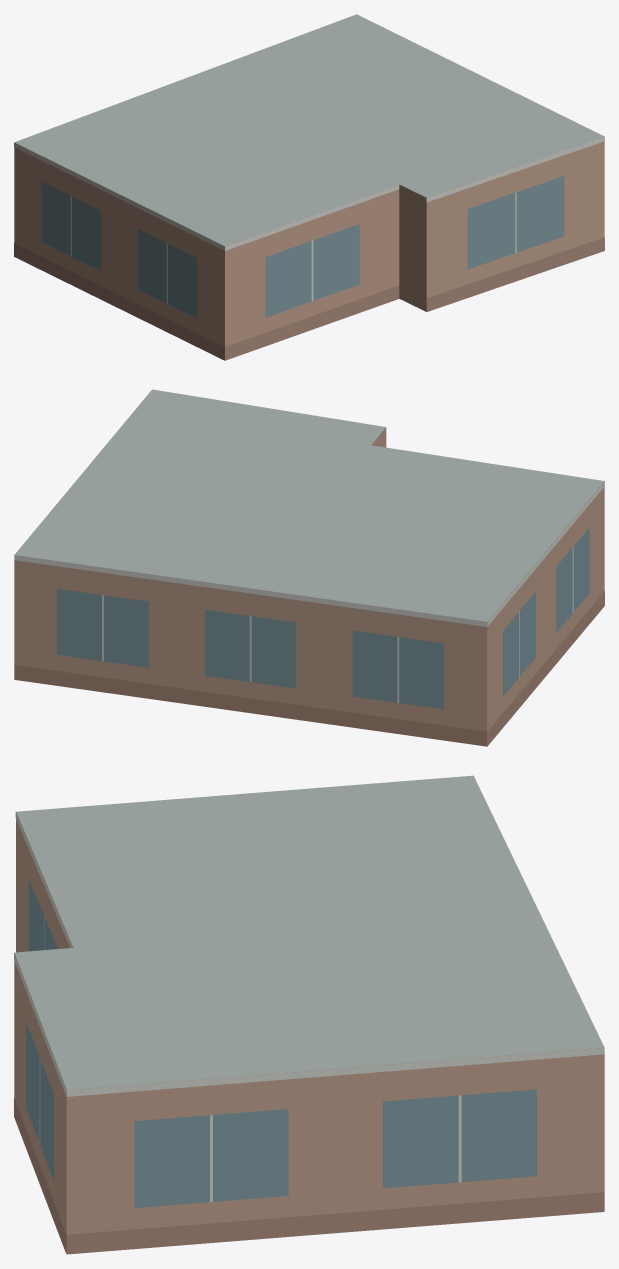
The model's file is survey-upis-32919352.glb.
3 views of the same model, one above another, from view 1: azimuth 30°, elevation 25°; view 2: azimuth 150°, elevation 25°; view 3: azimuth 270°, elevation 25° (orthographic). The views are drawn at different scales.
Visible parts, largest first — view 1: survey-upis-32919352.tmp; view 2: survey-upis-32919352.tmp; view 3: survey-upis-32919352.tmp.
Part boxes in pixels (x1,y1,x2,y2): survey-upis-32919352.tmp: (14, 14, 604, 360); survey-upis-32919352.tmp: (14, 389, 604, 746); survey-upis-32919352.tmp: (14, 775, 604, 1254).
Bounding box in the file's own units: 12.55 × 3.05 × 9.95.
